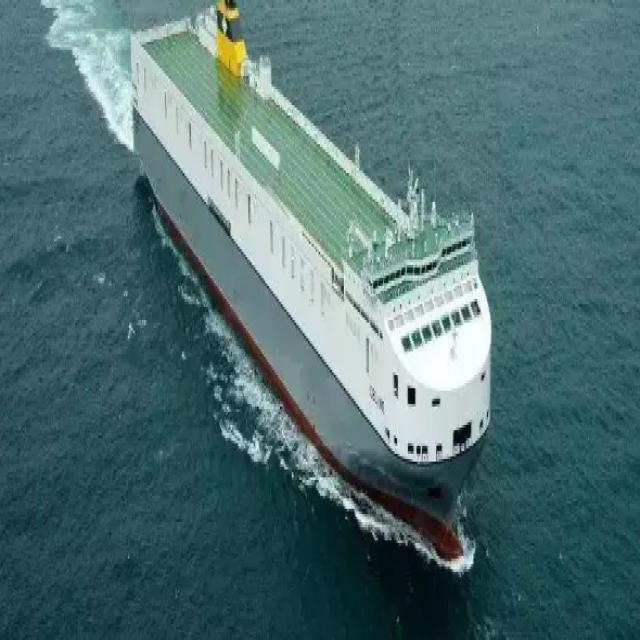cargoship: (126, 0, 501, 567)
